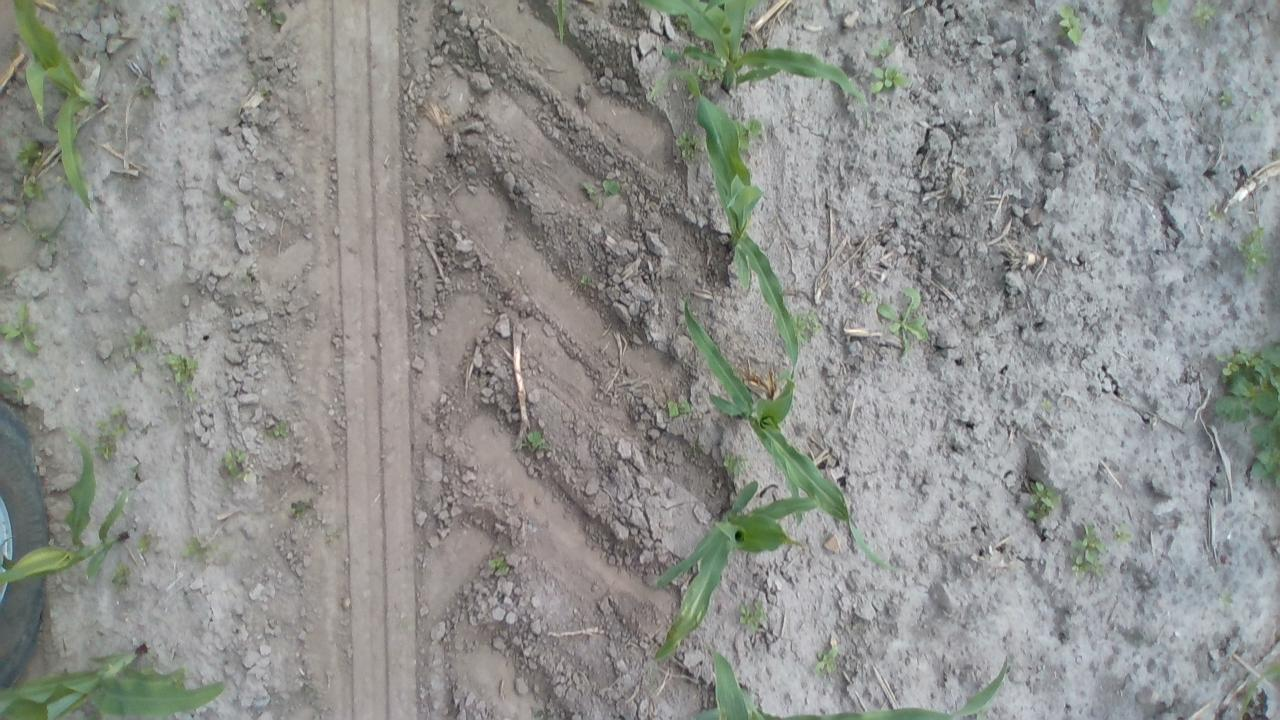Maize: (681, 289, 898, 576), (644, 69, 802, 389), (553, 0, 872, 131), (654, 480, 820, 662), (676, 649, 1010, 720), (6, 0, 107, 220), (0, 424, 129, 582), (0, 646, 229, 720), (1240, 664, 1280, 720)
Weeds: (1213, 340, 1280, 420), (878, 285, 928, 360), (1246, 414, 1280, 490), (0, 298, 41, 356), (1071, 524, 1108, 580), (1236, 225, 1269, 278), (1024, 482, 1060, 522), (1056, 4, 1084, 46), (791, 309, 822, 346), (870, 66, 910, 94), (222, 447, 252, 482), (165, 352, 198, 382), (15, 136, 44, 170), (735, 116, 764, 150), (736, 600, 768, 630), (813, 644, 840, 676), (0, 377, 35, 401), (126, 325, 155, 353), (182, 536, 218, 557), (690, 60, 724, 82), (1192, 0, 1216, 30), (675, 129, 699, 159), (24, 175, 48, 203), (723, 452, 748, 476), (524, 430, 552, 450), (110, 562, 130, 588), (93, 437, 114, 461), (263, 420, 288, 440), (668, 397, 690, 418), (869, 38, 893, 56), (140, 654, 158, 676), (488, 556, 510, 574), (290, 502, 312, 520), (1113, 524, 1132, 544), (602, 178, 621, 198), (252, 0, 272, 19), (1148, 0, 1170, 16), (1206, 206, 1226, 222), (31, 229, 55, 242), (162, 3, 180, 20), (858, 288, 874, 306), (270, 11, 286, 29), (221, 196, 238, 212), (1218, 89, 1234, 106), (110, 422, 128, 437), (137, 536, 152, 554), (674, 14, 690, 30), (975, 706, 993, 720), (1220, 593, 1234, 611), (580, 182, 596, 196), (172, 675, 185, 692), (184, 386, 196, 402), (156, 52, 168, 66), (108, 406, 124, 416), (130, 361, 142, 374), (20, 216, 30, 231), (1250, 110, 1262, 122), (1040, 396, 1051, 408), (141, 85, 152, 96), (96, 420, 108, 430), (580, 273, 588, 283)
